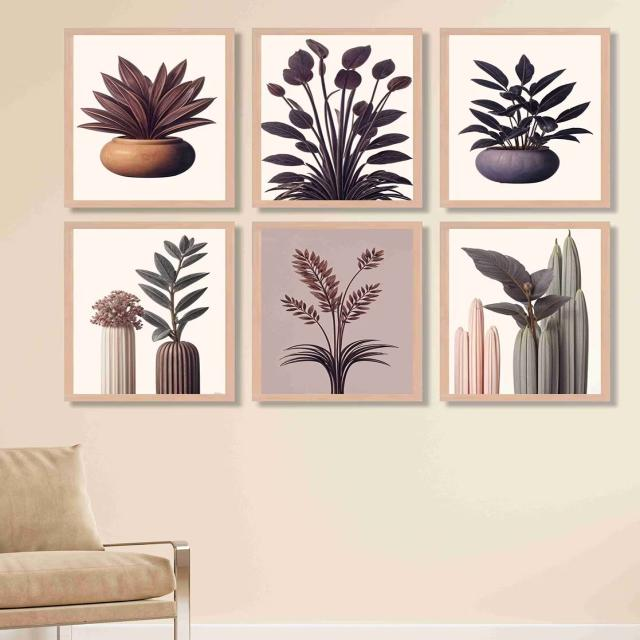painting: (62, 26, 238, 208), (252, 220, 428, 402), (440, 222, 615, 404), (440, 27, 615, 209), (250, 28, 425, 210), (67, 220, 242, 402)
